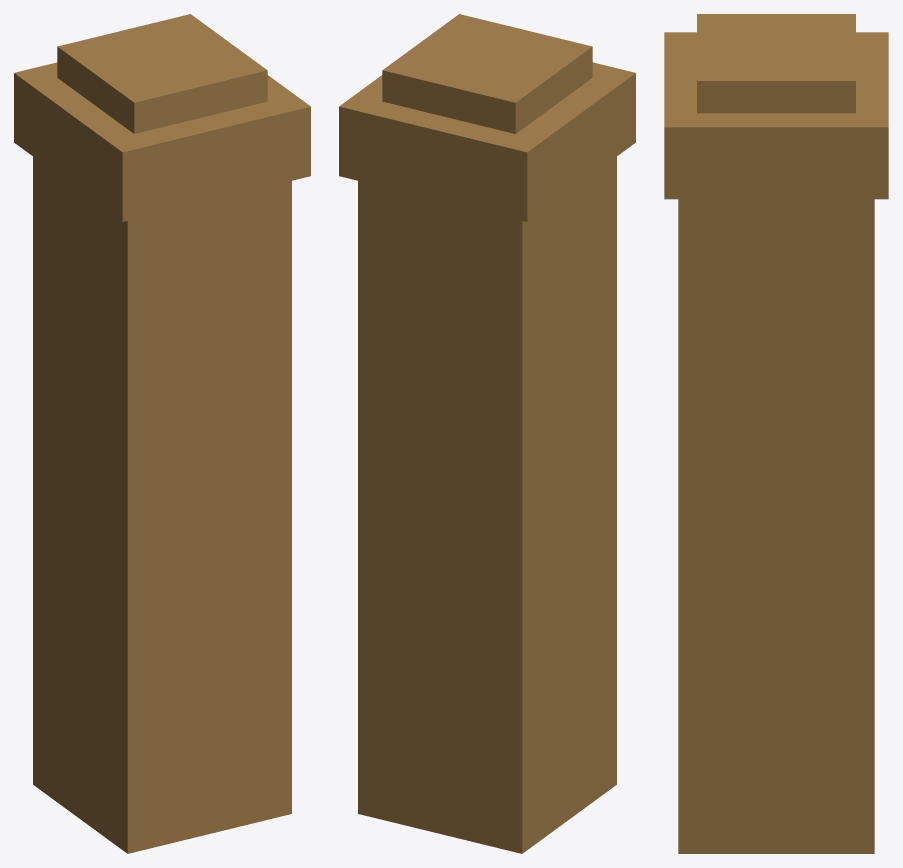
File: SM_ZhaLanZhu.fbx
3 renders of one model, left to right at view 1: azimuth 30°, elevation 25°; view 2: azimuth 150°, elevation 25°; view 3: azimuth 270°, elevation 25°, orthographic. The views are drawn at different scales.
Visible parts, largest first — view 1: SM_ZhaLanZhu; view 2: SM_ZhaLanZhu; view 3: SM_ZhaLanZhu.
Boxes of the visible parts, x1,y1,x2,y2 form: SM_ZhaLanZhu: (14, 14, 310, 853); SM_ZhaLanZhu: (339, 14, 635, 853); SM_ZhaLanZhu: (664, 14, 888, 853).
Size of the model in its own units: 0.7762 by 2.92 by 0.7762.
